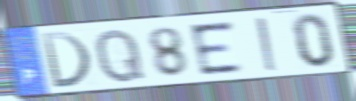0: (291, 11, 336, 71)
8: (145, 25, 189, 78)
D: (39, 30, 94, 90)
E: (186, 19, 246, 78)
I: (254, 15, 281, 73)
Q: (93, 26, 148, 85)
